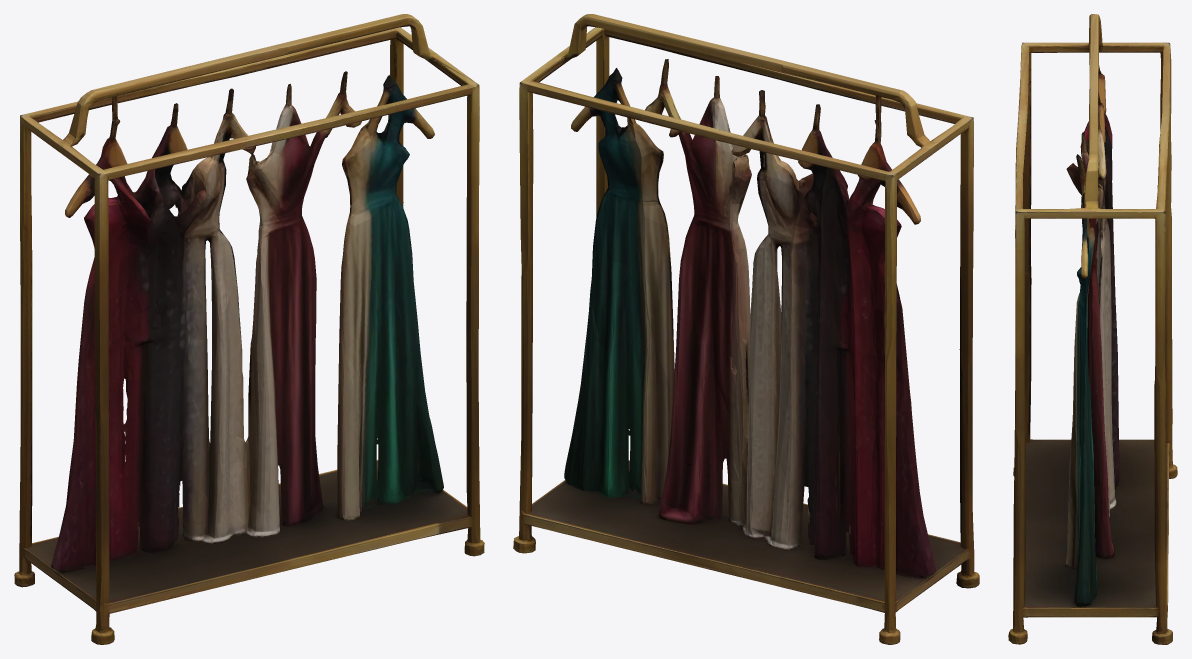
Rendered from box_earbuds_white.glb.
3 views of the same model, side by side, from view 1: azimuth 30°, elevation 25°; view 2: azimuth 150°, elevation 25°; view 3: azimuth 270°, elevation 25° (orthographic). The views are drawn at different scales.
Visible parts, largest first — view 1: geometry_0; view 2: geometry_0; view 3: geometry_0.
Boxes of the visible parts, <box> form: geometry_0: <box>14,14,484,644</box>; geometry_0: <box>513,14,979,644</box>; geometry_0: <box>1008,14,1177,644</box>.
Size of the model in its own units: 0.7916 by 1 by 0.3237.
Materials: 1 (1 with a texture image).
